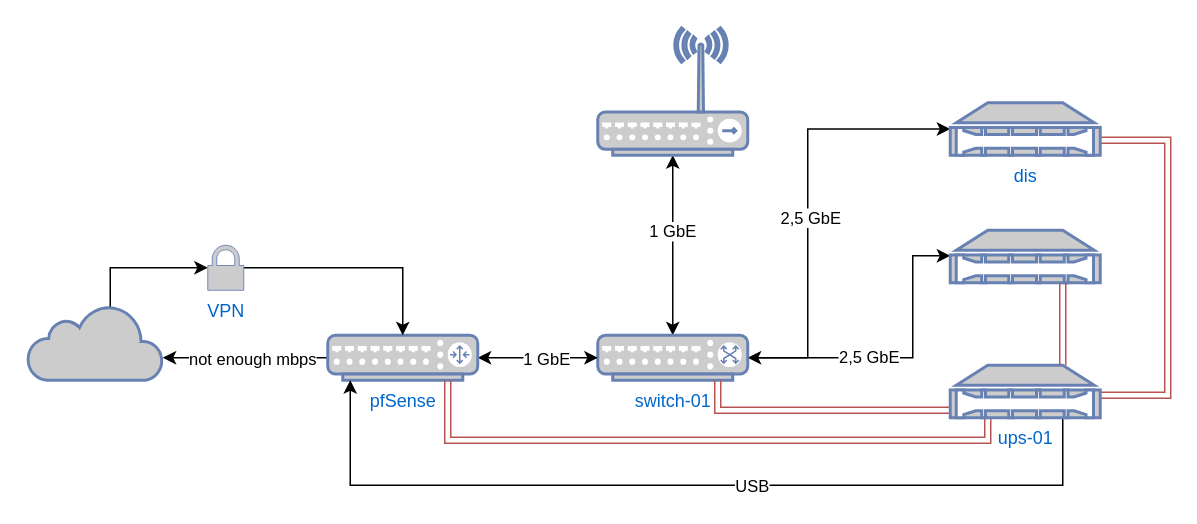
Image size: 1197x524. Some labels were removed from this diagram. Each missing label, with the box of its shape:
ap-01: (596, 26, 748, 156)
pve-01: (948, 228, 1101, 284)
